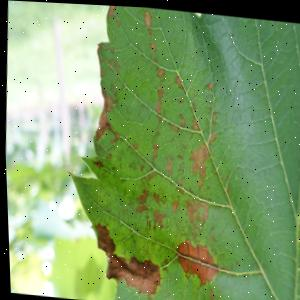Folha: (54, 2, 300, 300)
Fungo: (84, 3, 235, 289), (129, 8, 220, 231), (85, 221, 162, 300), (172, 236, 260, 289), (101, 250, 160, 299), (172, 236, 218, 286), (186, 140, 209, 178), (182, 196, 198, 223), (150, 207, 163, 229), (196, 199, 207, 224), (153, 86, 163, 113), (136, 187, 147, 205), (163, 156, 171, 176), (133, 202, 147, 213), (172, 73, 182, 87), (143, 9, 151, 26), (149, 190, 159, 203), (206, 130, 215, 143), (169, 198, 177, 212), (155, 67, 165, 77), (190, 117, 198, 129), (155, 86, 163, 97), (148, 41, 155, 52), (178, 116, 185, 126), (207, 80, 212, 89), (177, 96, 182, 102)
